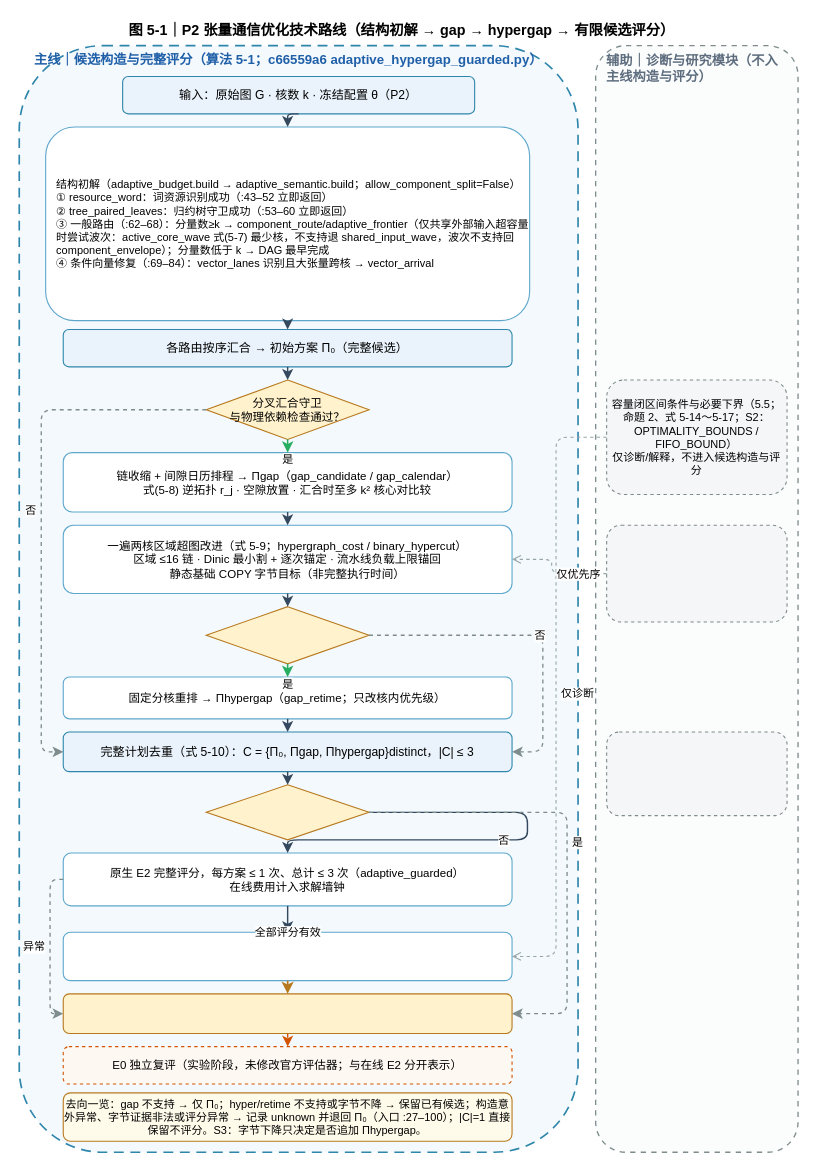
Image size: 818x1172. Some labels were removed from this diagram. The shapes that lost their labels are listed below. From the top down, each one's centre as x and y in pixels, then its label:
At (696,573): "静态估计仅用于构造与优先序：式(5-7)/(5-9)、日历时钟 不是正式成绩，也不作一般 Makespan 下界".
At (287,635): "基础 COPY 字节 严格下降？".
At (696,773): "未接入本入口的容量保护 / 就绪匹配等研究 不参与候选构造与评分".
At (287,812): "去重后 |C| = 1？".
At (287,956): "按 (Makespan, 额外 DDR 字节) 择优；平局保留先前计划 候选集合内比较性质，非全局最优性证明".
At (287,1013): "官方方案文件（严格仅两字段）：node_to_subgraph ｜ core_schedules".
